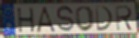A: (35, 6, 59, 34)
D: (94, 5, 115, 33)
H: (16, 7, 36, 34)
O: (75, 5, 96, 32)
R: (115, 5, 135, 32)
S: (56, 5, 75, 34)
